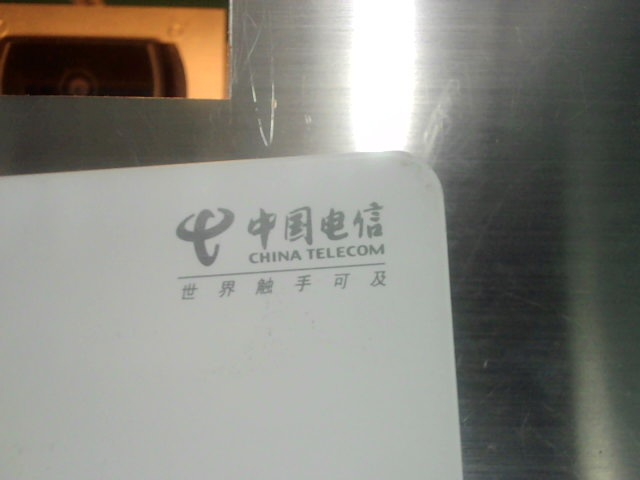AB_ChinaTelecom: (161, 199, 406, 301)
